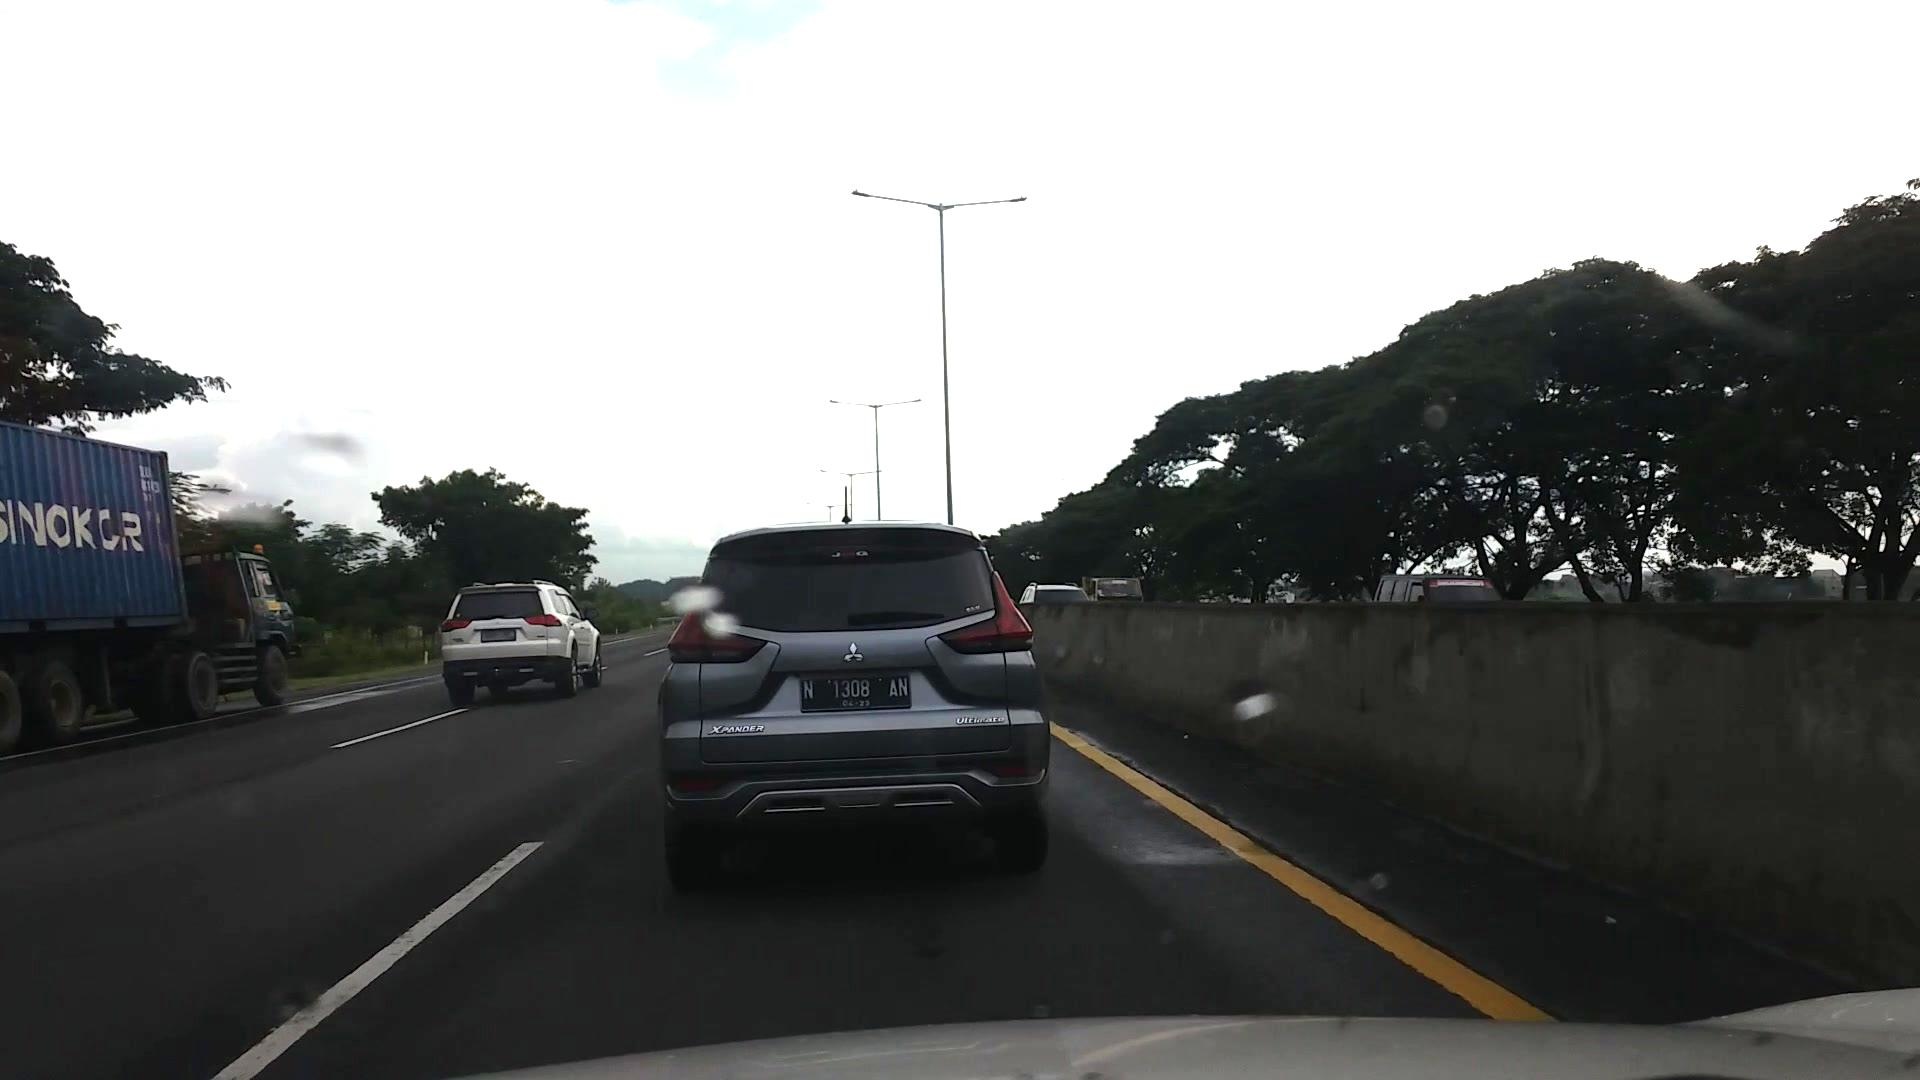plate_positive: (800, 676, 910, 711)
